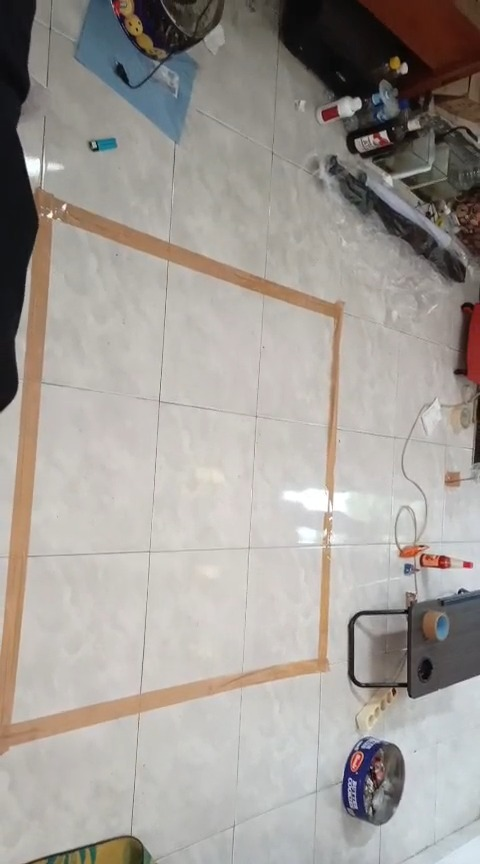floor marking: (0, 188, 342, 753)
